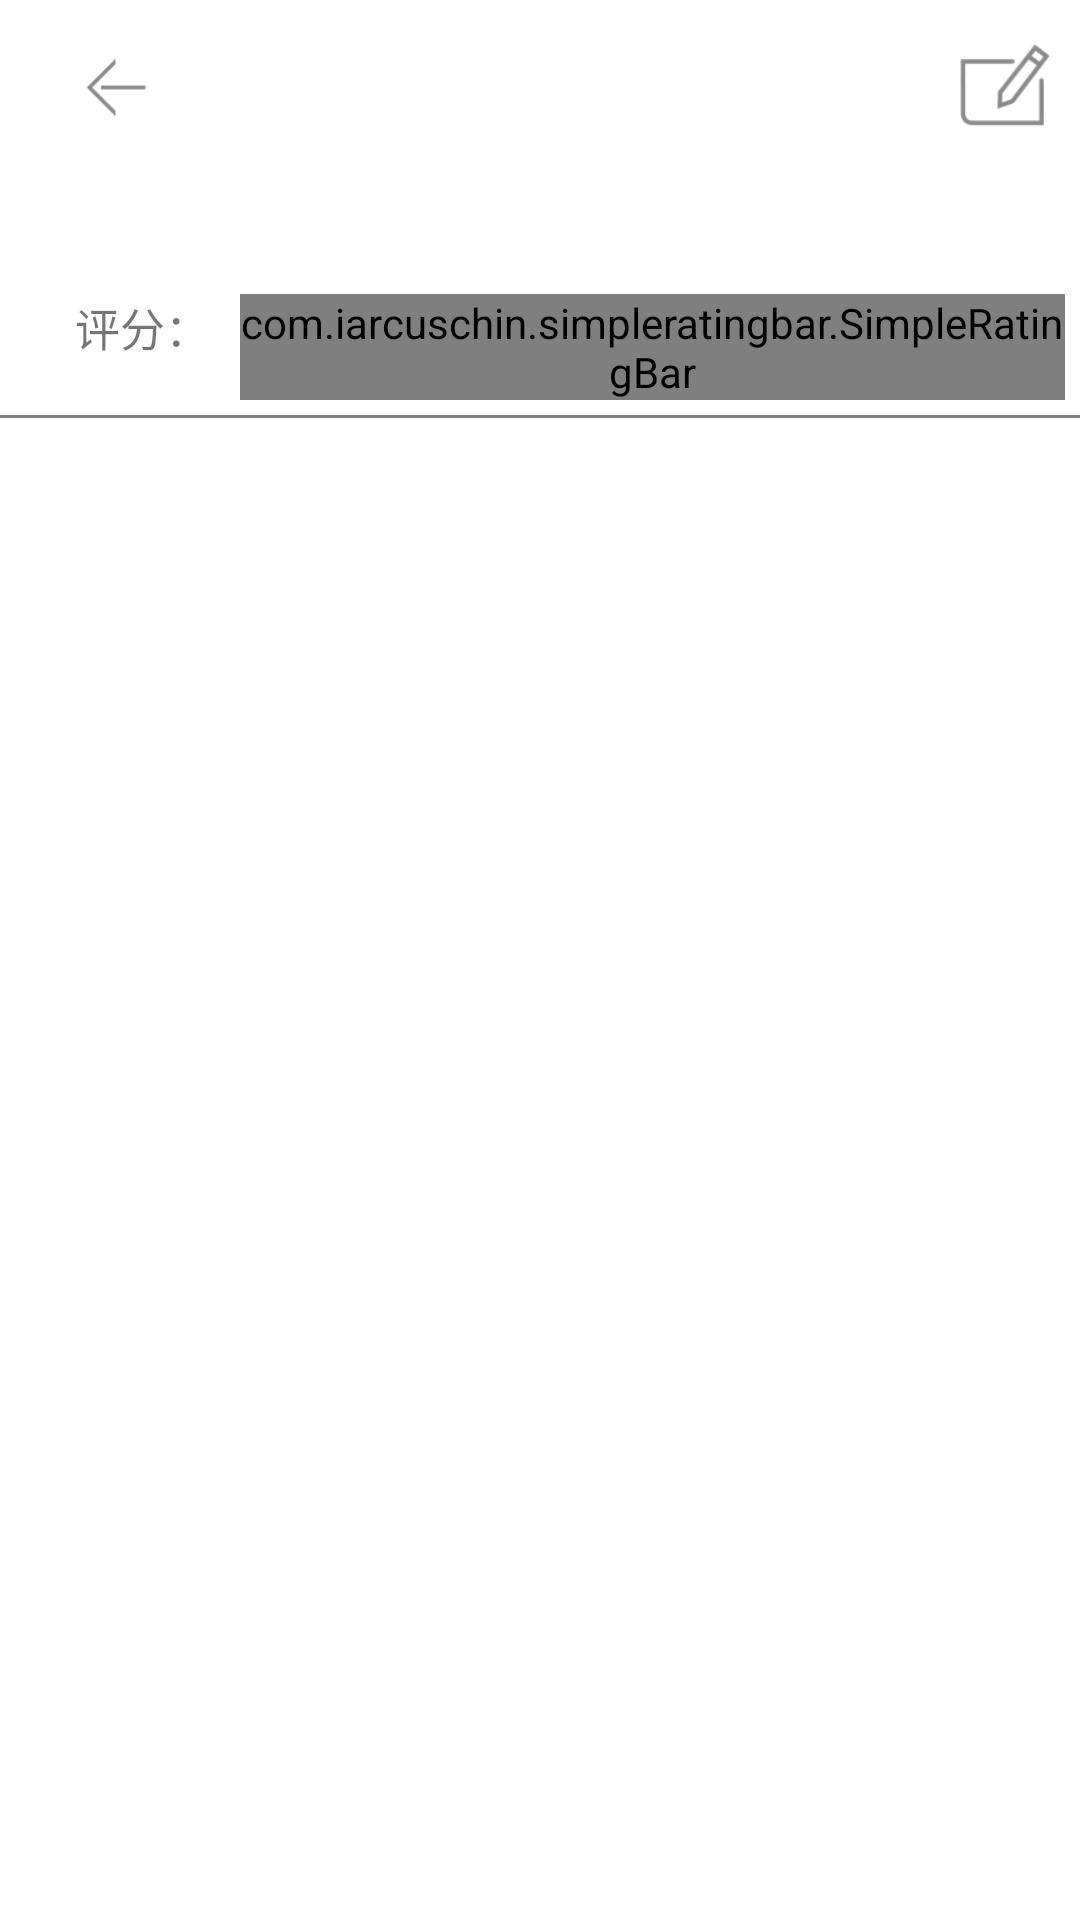

Locate icon controls on the screen. Image size 1080w x 1920h, boxes as rect(x1, y1, x2, y2).
back: rect(87, 59, 146, 116)
edit: rect(960, 45, 1050, 126)
